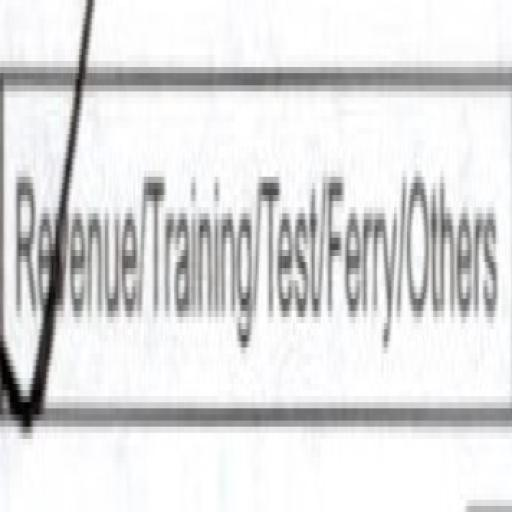check: (5, 4, 135, 430)
